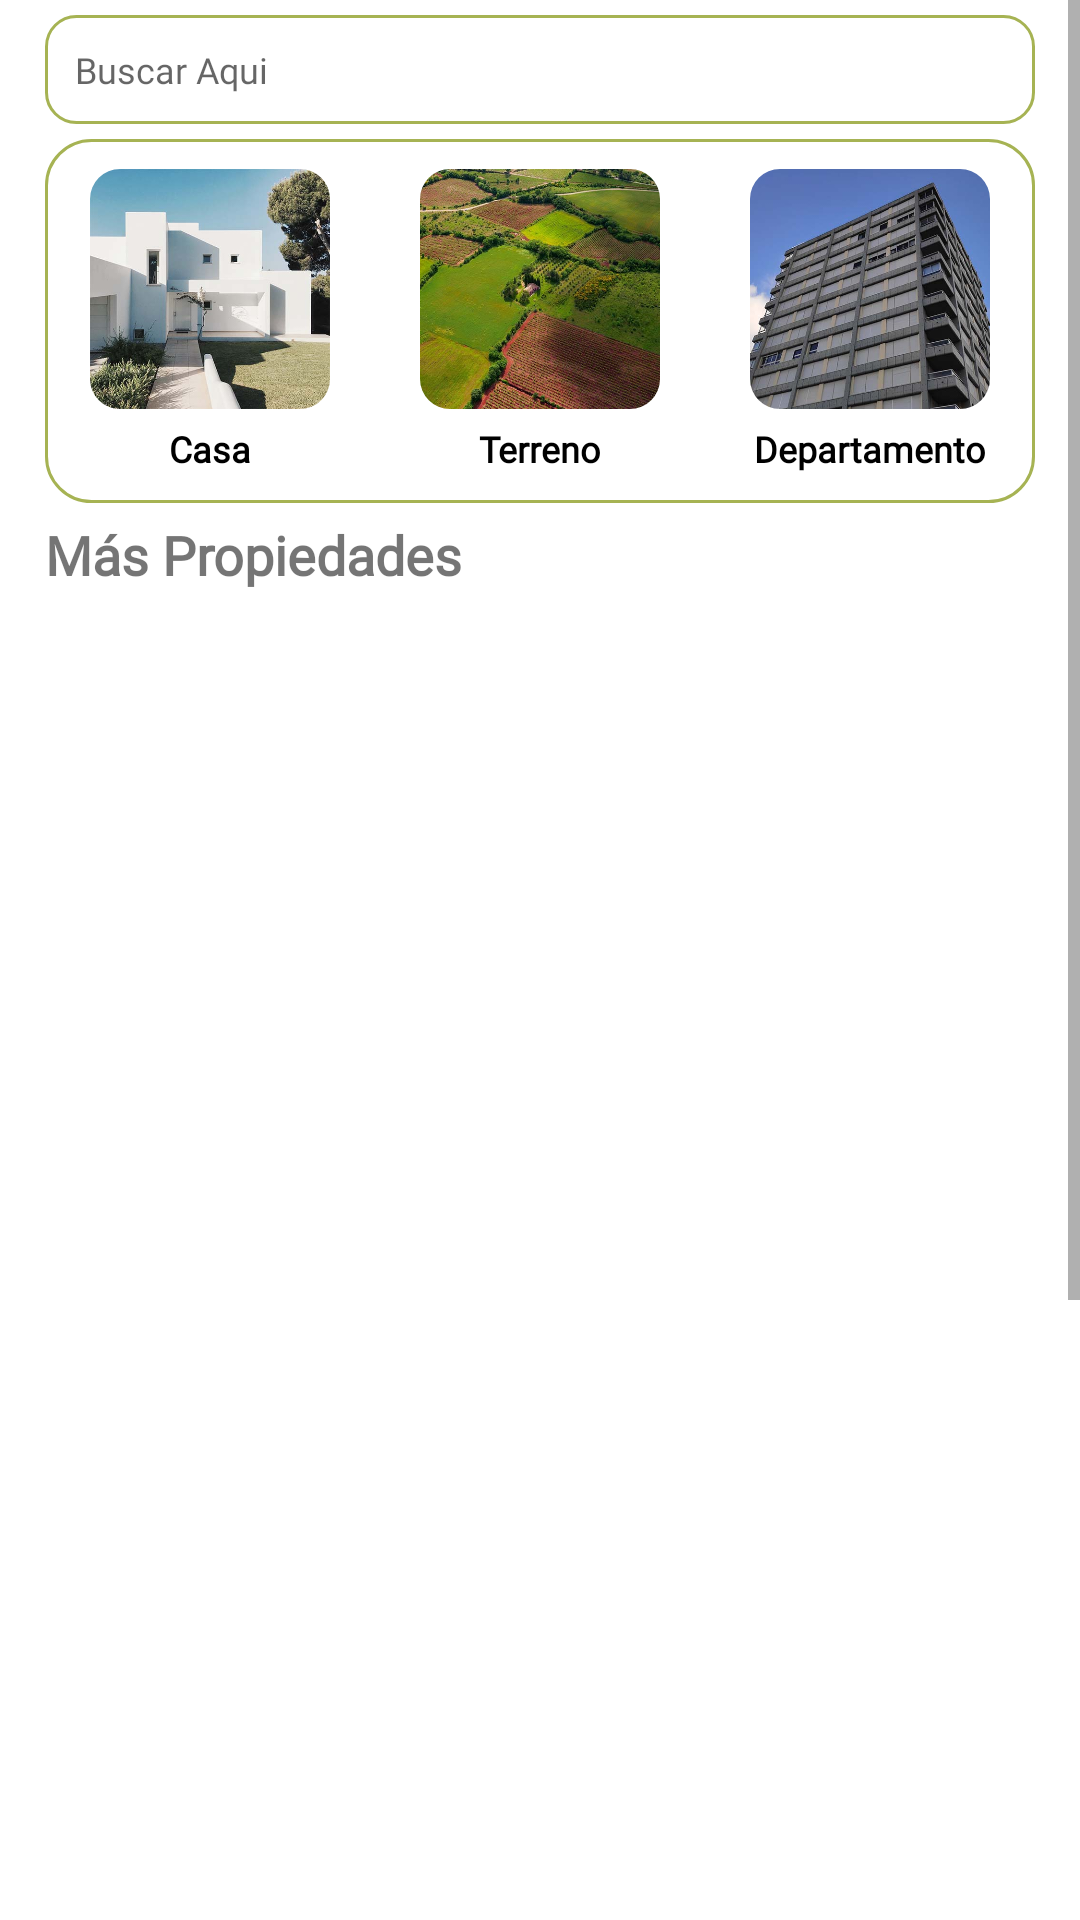

Where to tap for icons on this 1080 x 1920 app screen, as (x,y):
cate: (210,289), (540,289), (870,289)
